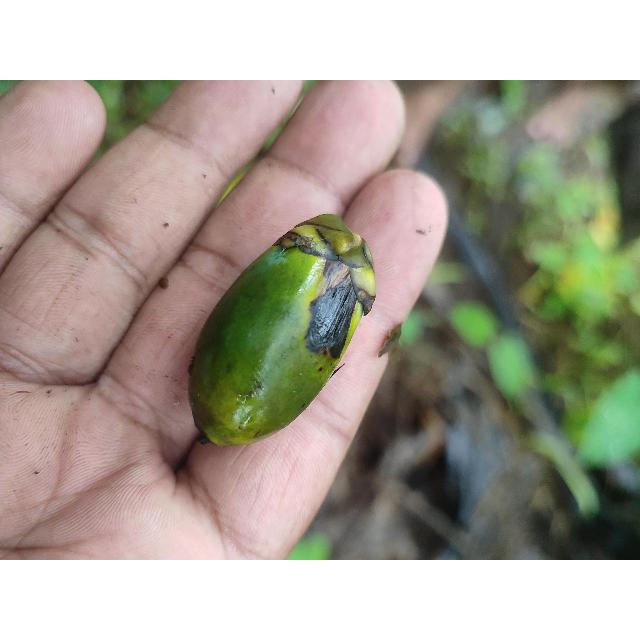good: (184, 212, 379, 448)
